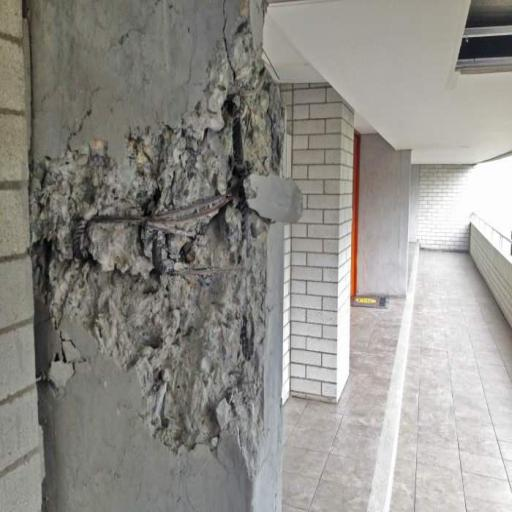spalling: (33, 22, 273, 462)
